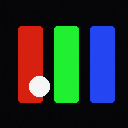2 circle: (29, 76, 49, 96)
